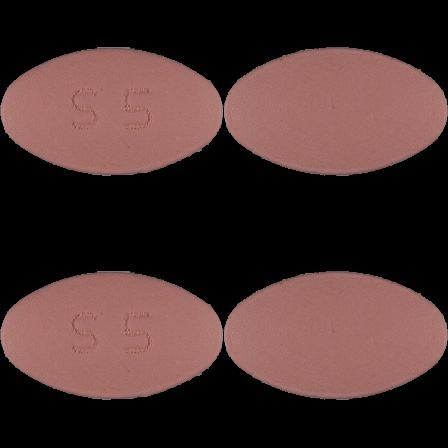50436-0121: (0, 0, 224, 224)
